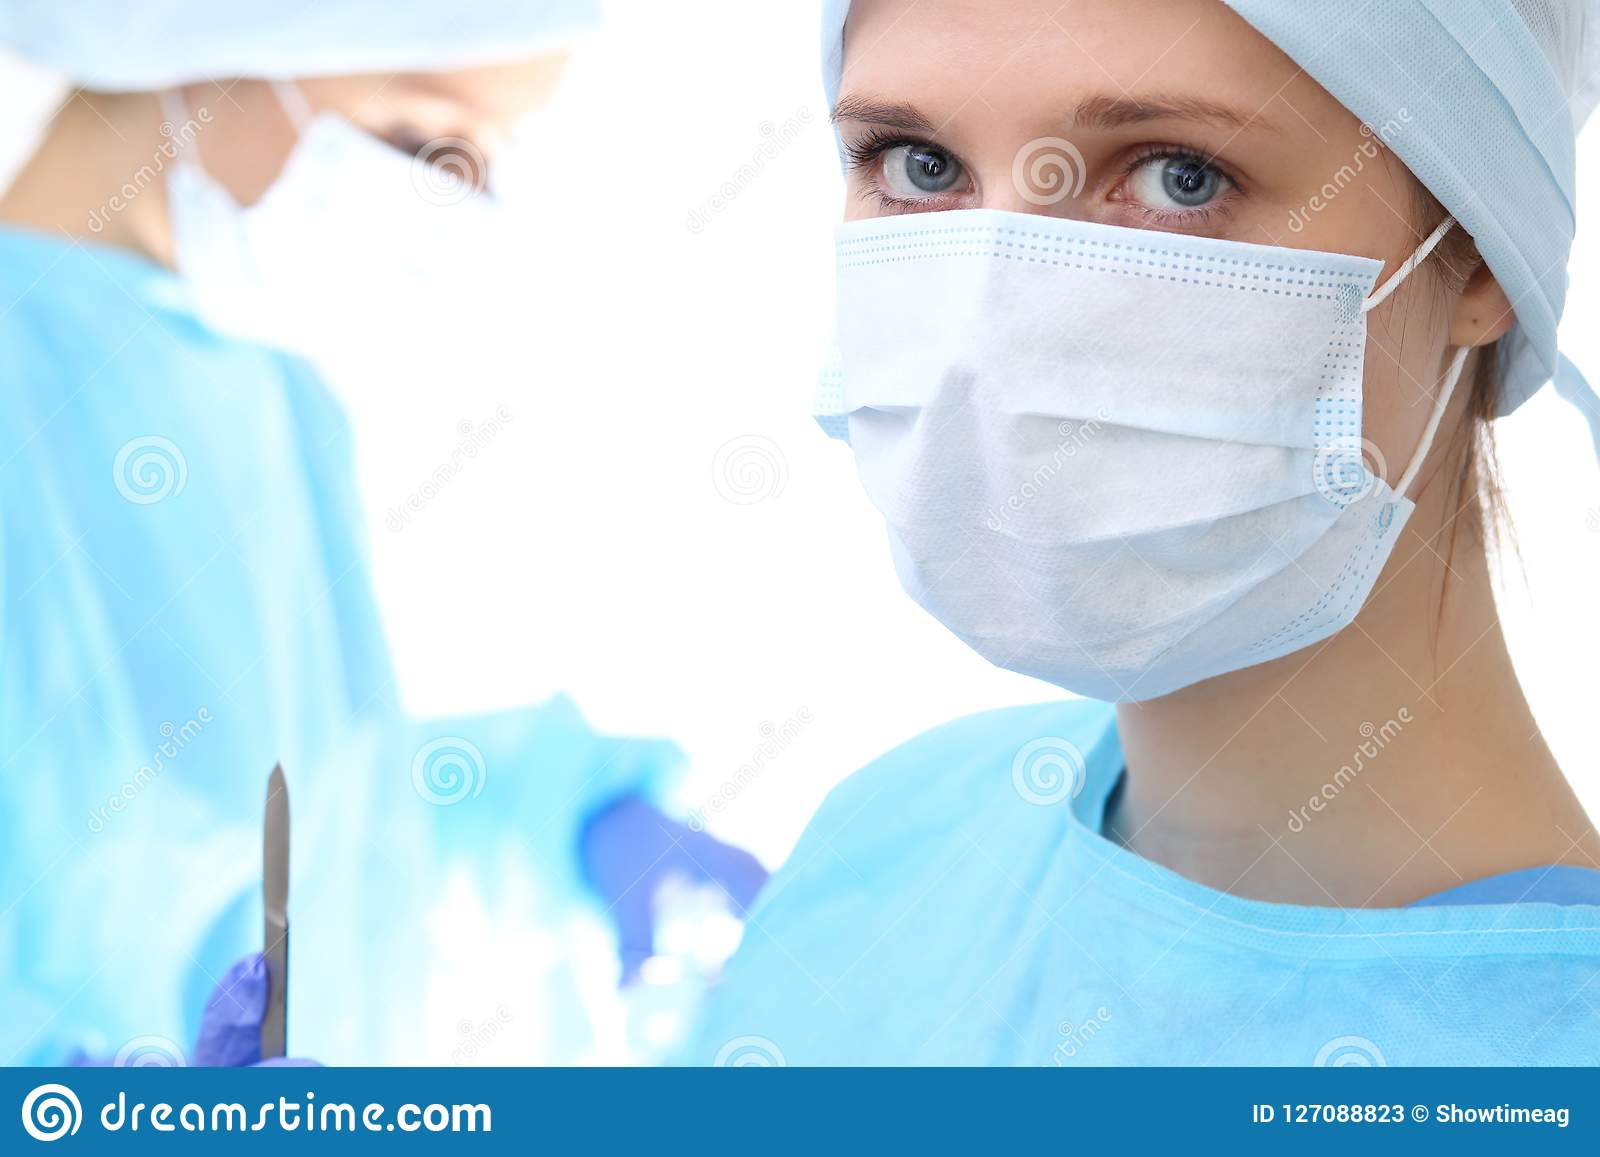mask: (783, 234, 1394, 666)
